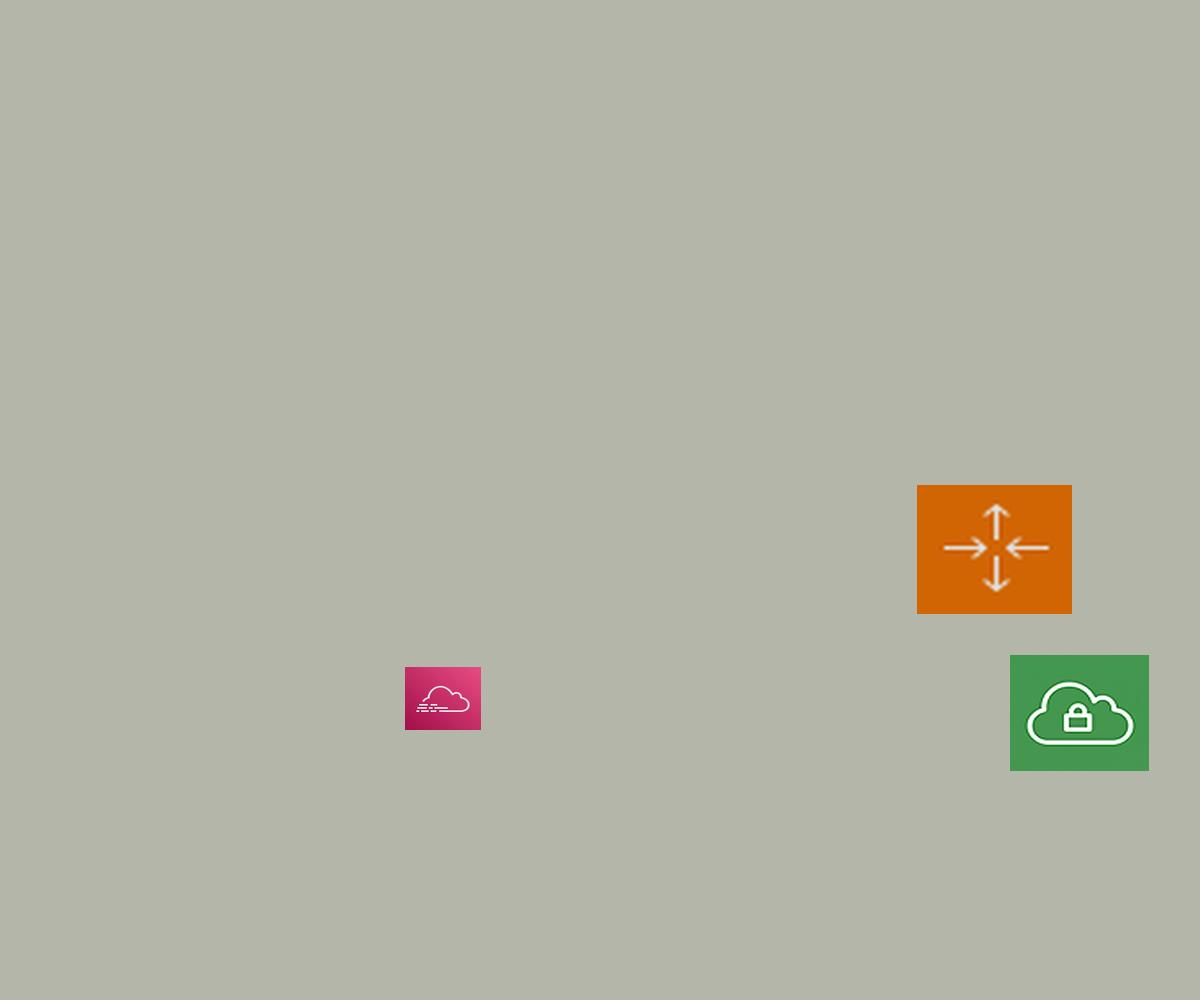AWS-CloudTrail: (405, 667, 481, 730)
AWS-Private_vpc: (1010, 655, 1149, 771)
AWS-Scaling-group: (917, 485, 1072, 614)
